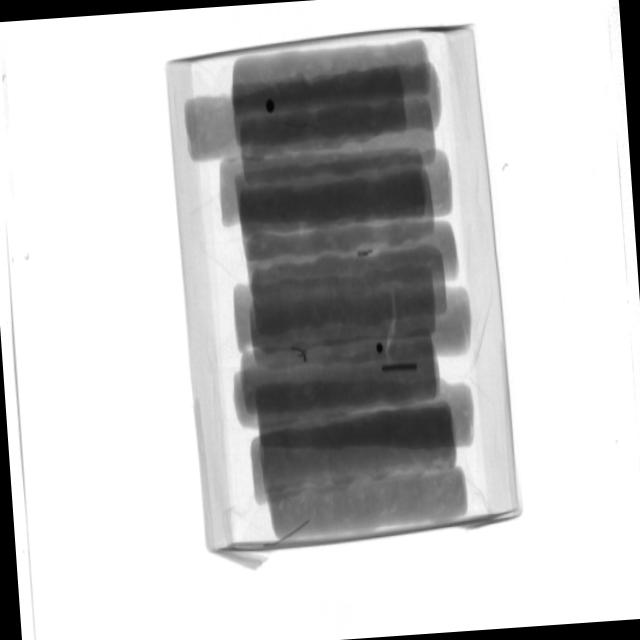ym: (275, 521, 311, 548), (383, 362, 419, 376), (356, 246, 376, 257), (293, 349, 308, 363), (266, 100, 276, 115), (377, 344, 385, 354)
